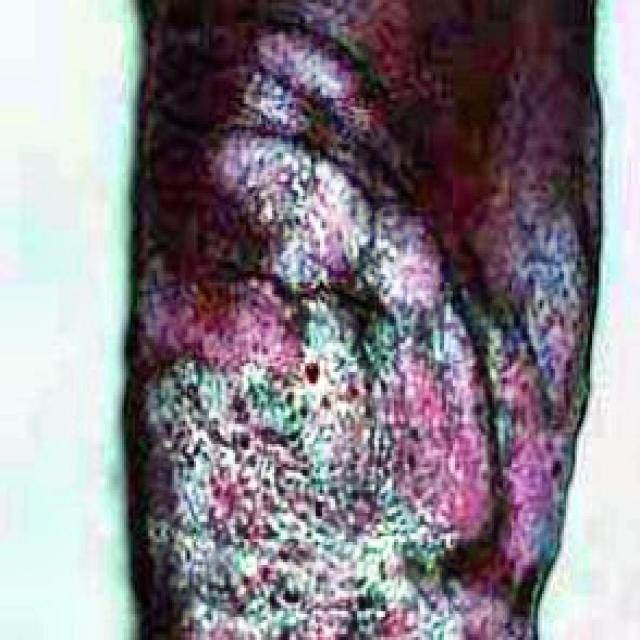Tinea Ringworm Candidiasis and other Fungal Infections: (166, 25, 529, 613)
